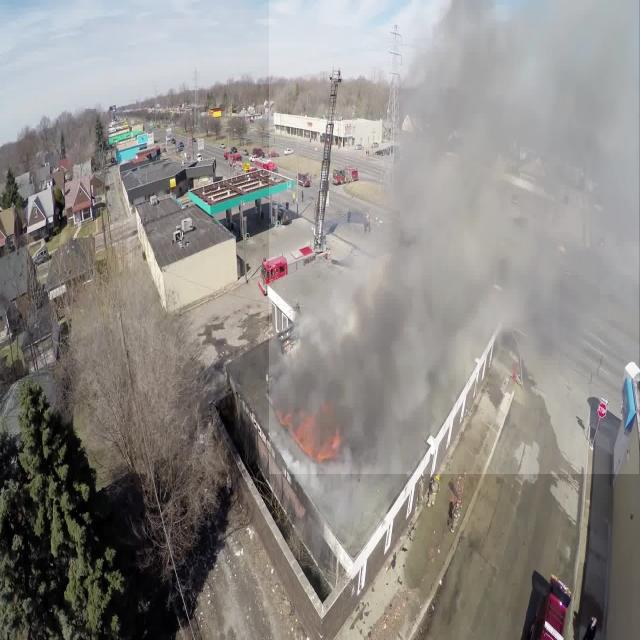Fire: (274, 396, 344, 468)
Smoke: (269, 0, 639, 474)
